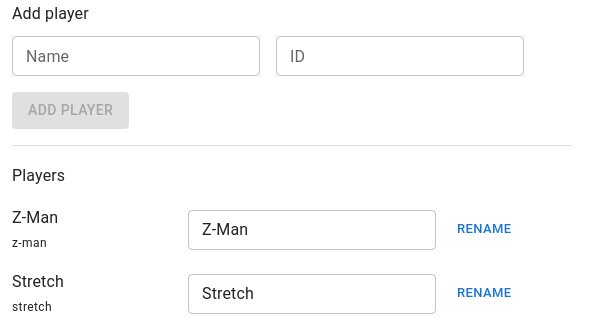
ManagePlayers › renames a player by posting the same id with the new name
The width and height of the screenshot is (589, 331).
Expected: the text "Z-Man" is shown, [12, 208, 58, 226]
Replace the text in the field named "New name for Z-Man" with "Zed" at (312, 230), box [188, 210, 436, 250]
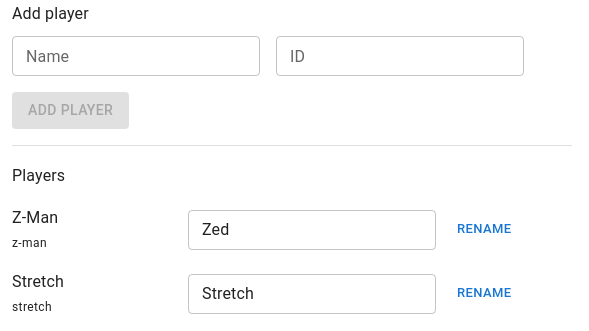
Click the button with aria-label "Rename Z-Man" at (484, 230), box [452, 214, 516, 245]
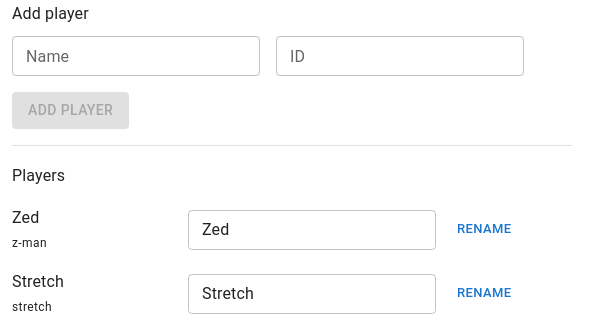
Expected: the text "Zed" is shown, [12, 208, 39, 226]
